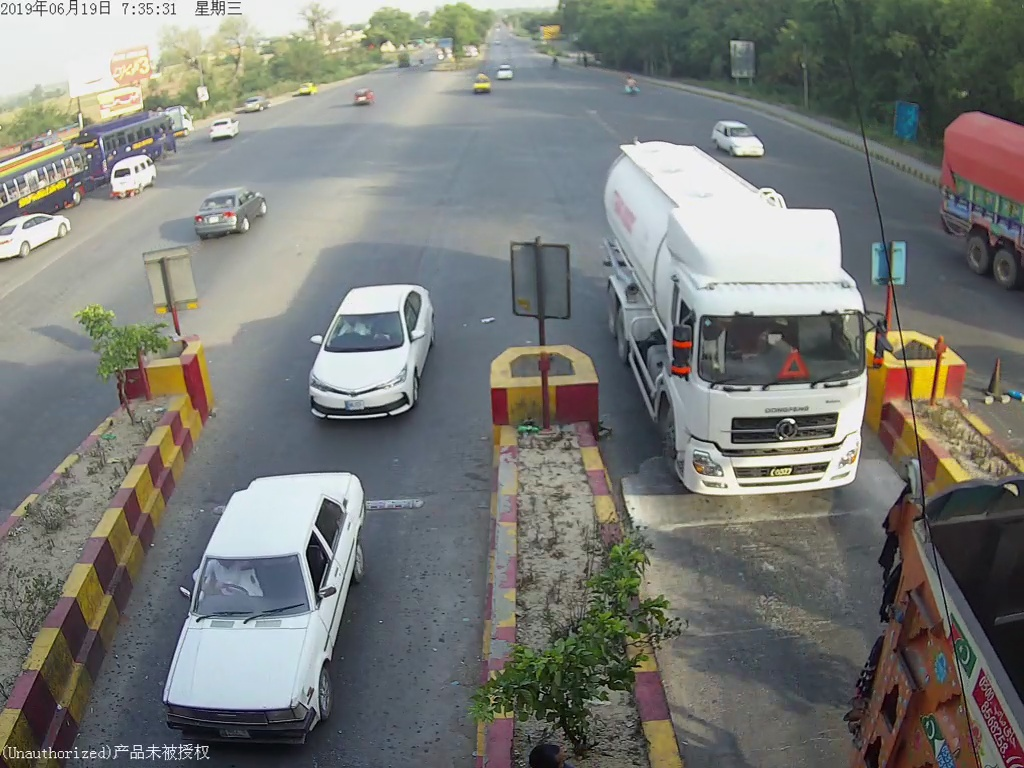Cat-1: (159, 471, 368, 734), (304, 283, 434, 418)
Cat-4: (600, 140, 870, 500)
